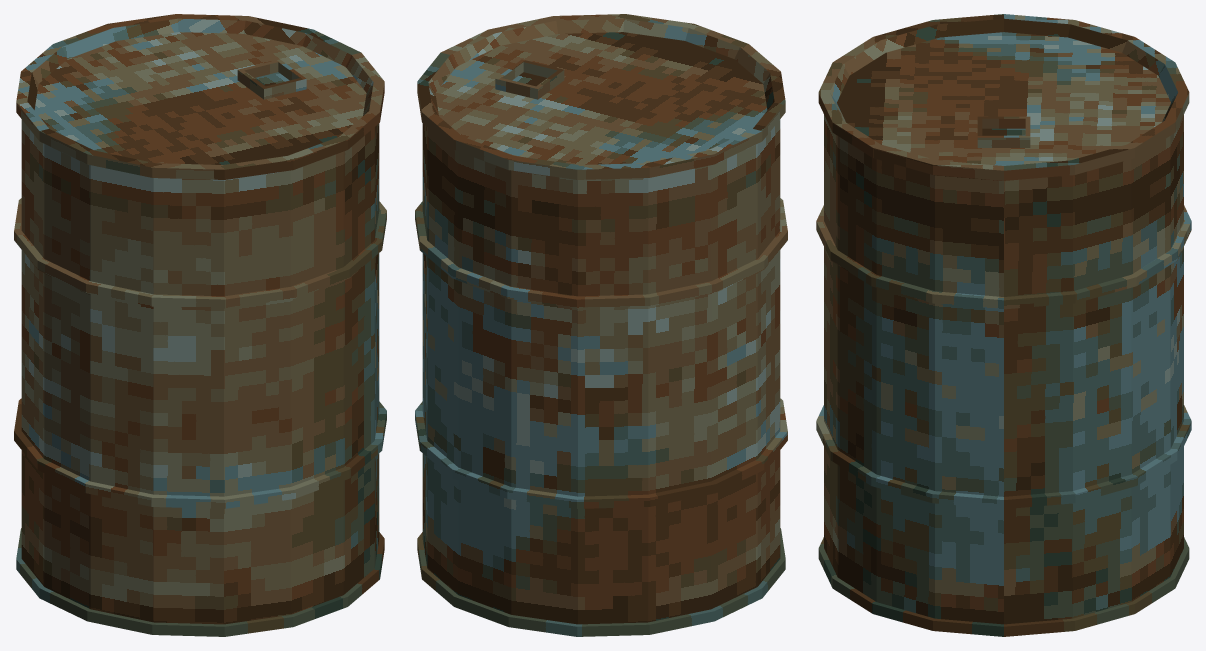
The model's file is barrel_1.fbx.
3 views of the same model, side by side, from view 1: azimuth 30°, elevation 25°; view 2: azimuth 150°, elevation 25°; view 3: azimuth 270°, elevation 25° (orthographic).
Parts seen in each view (by area): view 1: Cylinder.012; view 2: Cylinder.012; view 3: Cylinder.012.
Boxes of the visible parts, x1,y1,x2,y2 form: Cylinder.012: (14, 14, 386, 636); Cylinder.012: (415, 14, 787, 636); Cylinder.012: (816, 14, 1191, 636).
Size of the model in its own units: 158 by 217 by 158.
